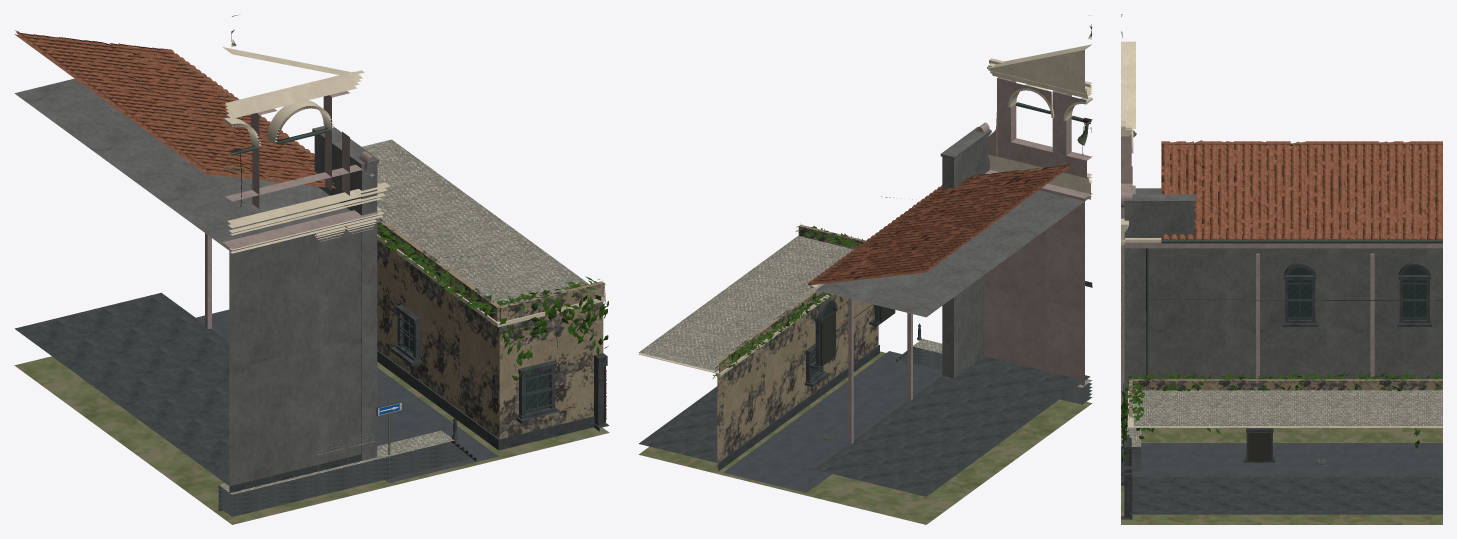
3 views of the same model, side by side, from view 1: azimuth 30°, elevation 25°; view 2: azimuth 150°, elevation 25°; view 3: azimuth 270°, elevation 25° (orthographic). The views are drawn at different scales.
Size of the model in its own units: 16 by 20.58 by 16.
19 materials, 14 textured.
